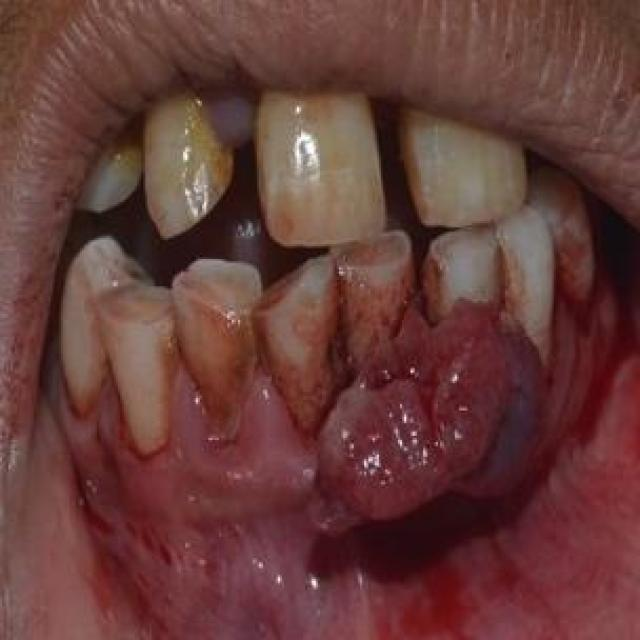cancer-detection: (45, 274, 622, 638)
processing_area: (2, 276, 638, 638)
